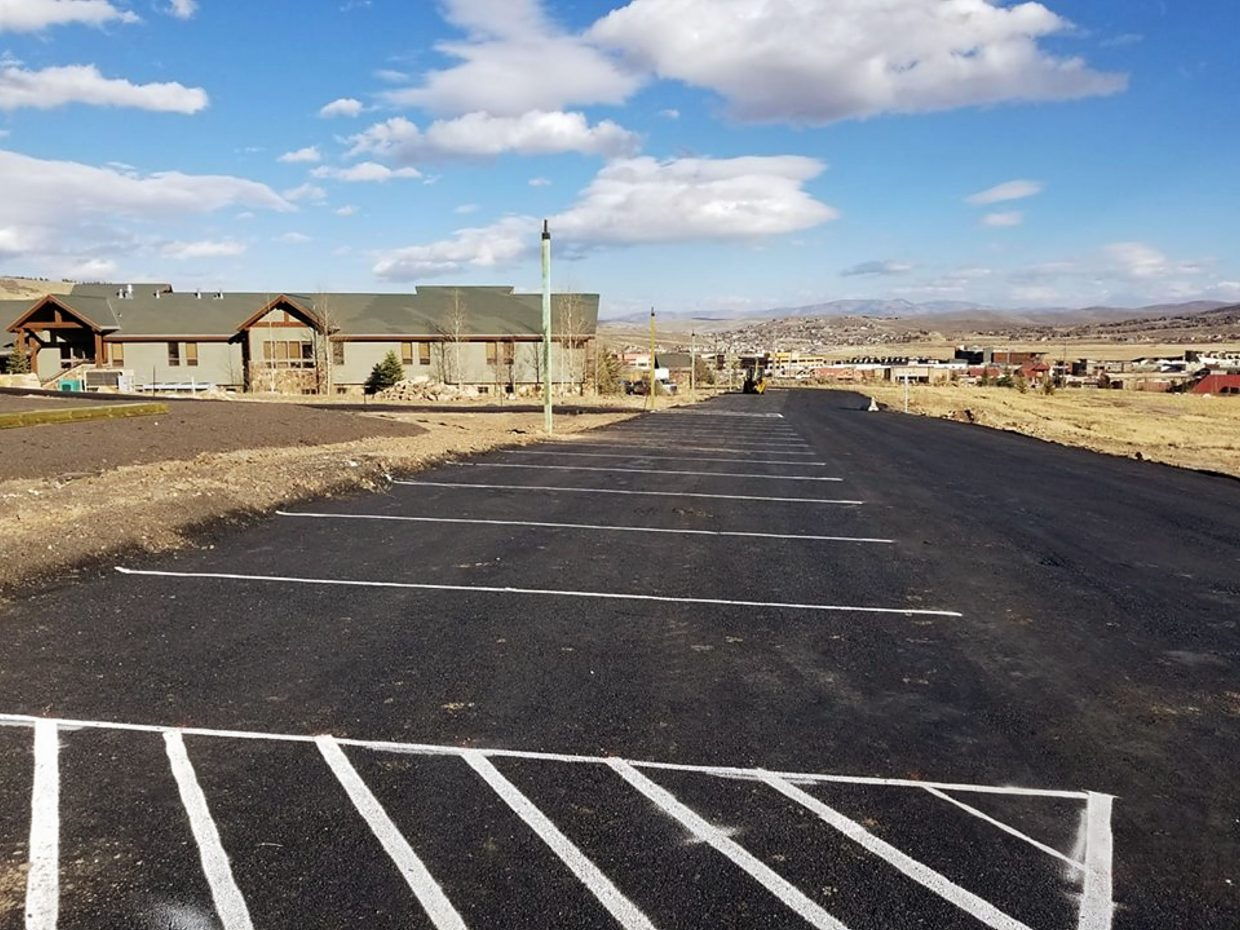empyt_space: (3, 558, 1118, 813), (104, 503, 973, 620), (274, 470, 898, 551), (401, 451, 865, 512)
